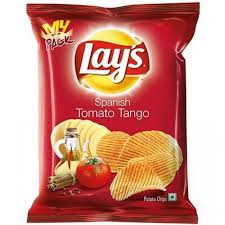lays-small: (28, 3, 190, 217)
